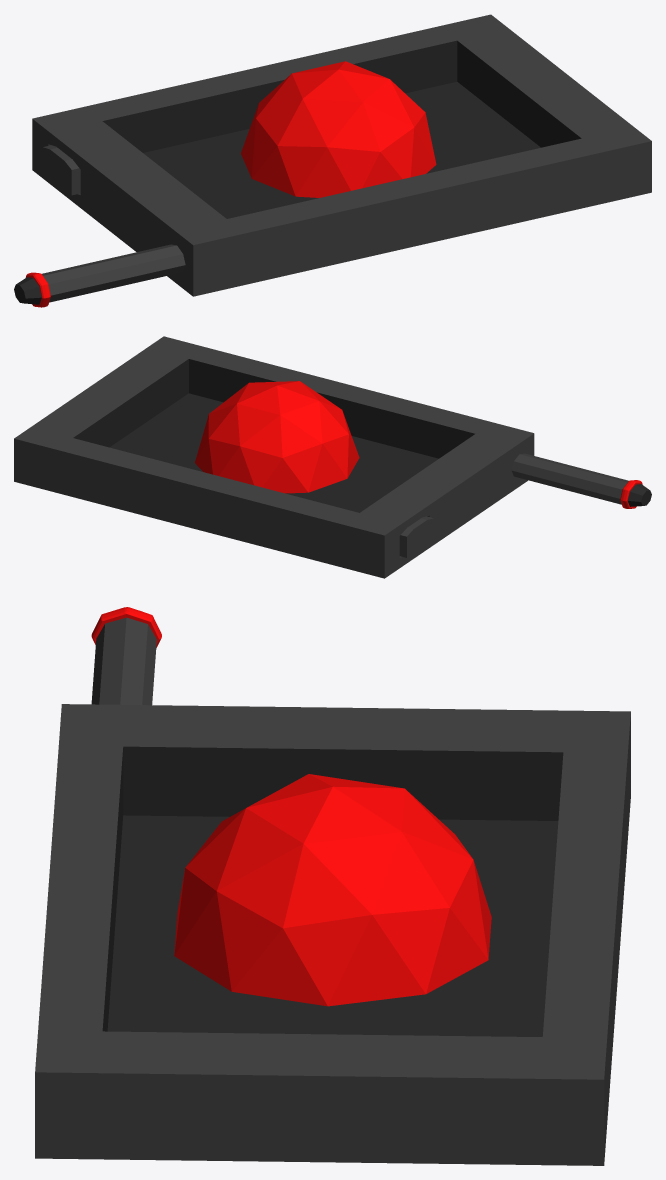
Rendered from switch.gltf.
3 renders of one model, top to bottom at view 1: azimuth 30°, elevation 25°; view 2: azimuth 150°, elevation 25°; view 3: azimuth 270°, elevation 25°, orthographic. The views are drawn at different scales.
Visible parts, largest first — view 1: switch; view 2: switch; view 3: switch.
Part boxes in pixels (bbox=[...]): switch: bbox=[14, 14, 651, 307]; switch: bbox=[14, 336, 651, 578]; switch: bbox=[35, 607, 630, 1165].
Bounding box in the file's own units: 1.23 × 0.2158 × 0.6183.
